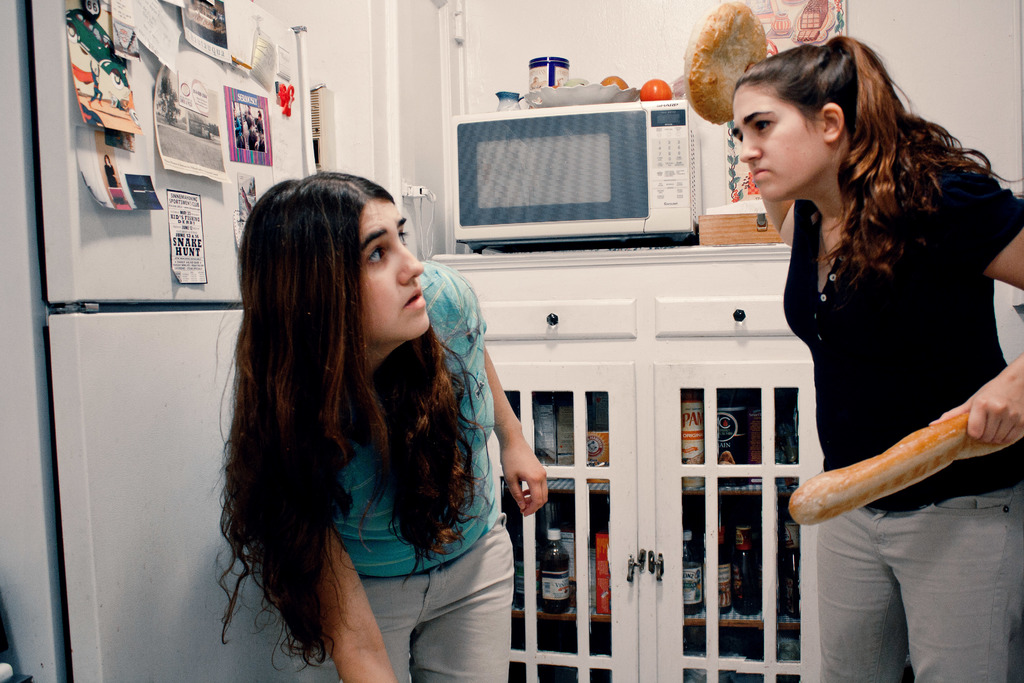cabinet door: (659, 368, 791, 683), (527, 378, 638, 683), (486, 307, 629, 340), (665, 304, 778, 332)
handle: (718, 305, 752, 334), (647, 558, 671, 580), (627, 558, 642, 586), (540, 310, 562, 323)
refrigerator door: (74, 334, 273, 683), (58, 13, 298, 268)
